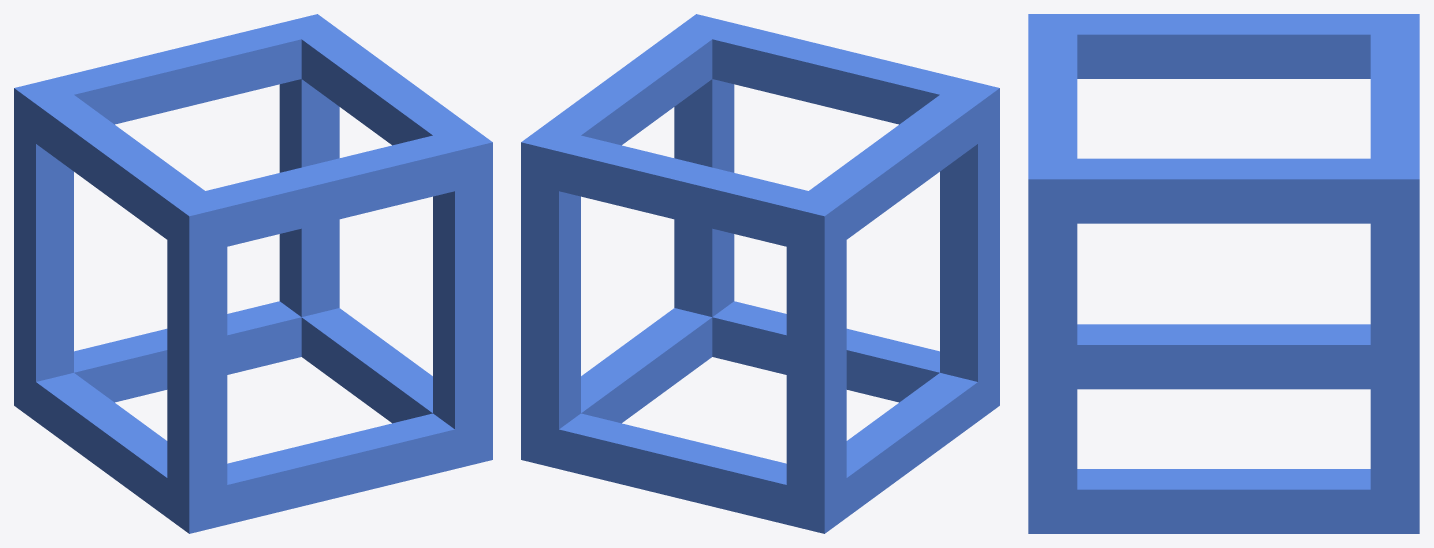
File: Ratcube.597c21f2.glb
3 views of the same model, side by side, from view 1: azimuth 30°, elevation 25°; view 2: azimuth 150°, elevation 25°; view 3: azimuth 270°, elevation 25° (orthographic). The views are drawn at different scales.
Visible parts, largest first — view 1: Node; view 2: Node; view 3: Node.
Part boxes in pixels (x1,y1,x2,y2): Node: (14, 14, 492, 533); Node: (521, 14, 999, 533); Node: (1028, 14, 1419, 533).
Size of the model in its own units: 0.8 by 0.8 by 0.8.
1 material, 1 textured.
